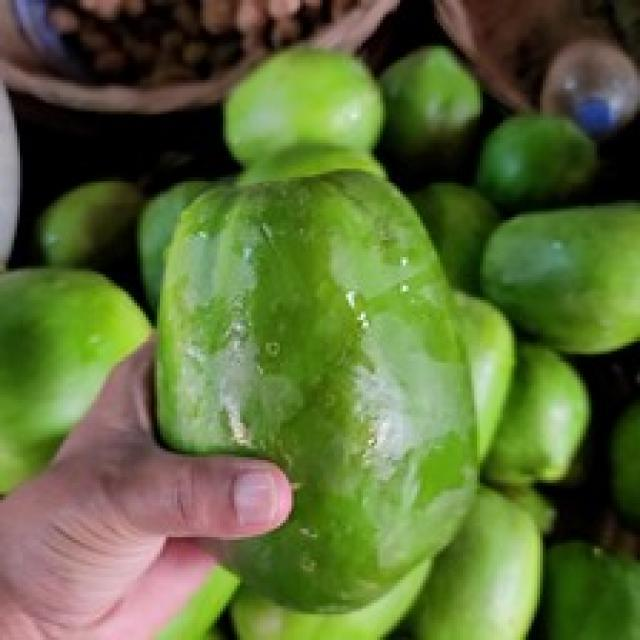Pepaya unrippen: (144, 174, 490, 609)
